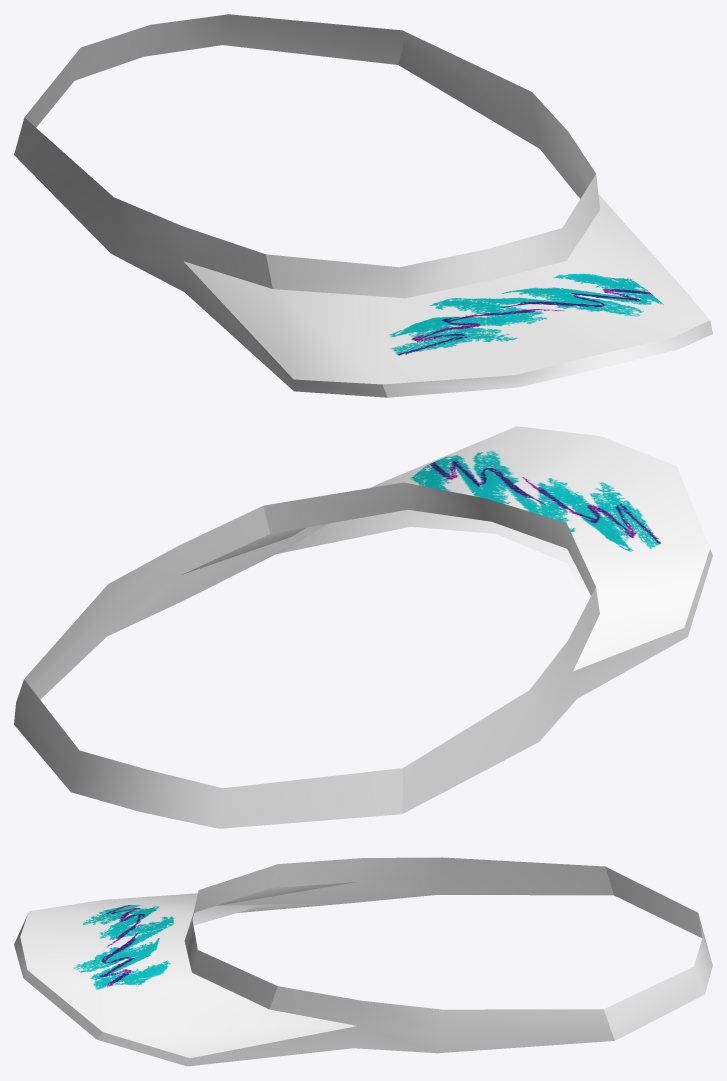
Rendered from visor.fbx.
The picture shows the model from 3 angles, top to bottom: view 1: azimuth 30°, elevation 25°; view 2: azimuth 150°, elevation 25°; view 3: azimuth 270°, elevation 25°; orthographic projection. The views are drawn at different scales.
Parts seen in each view (by area): view 1: Visor; view 2: Visor; view 3: Visor.
Part boxes in pixels (x1,y1,x2,y2): Visor: (14, 14, 712, 397); Visor: (14, 426, 712, 828); Visor: (14, 857, 712, 1066).
Size of the model in its own units: 16.49 by 3.56 by 30.75.
1 material, 1 textured.
